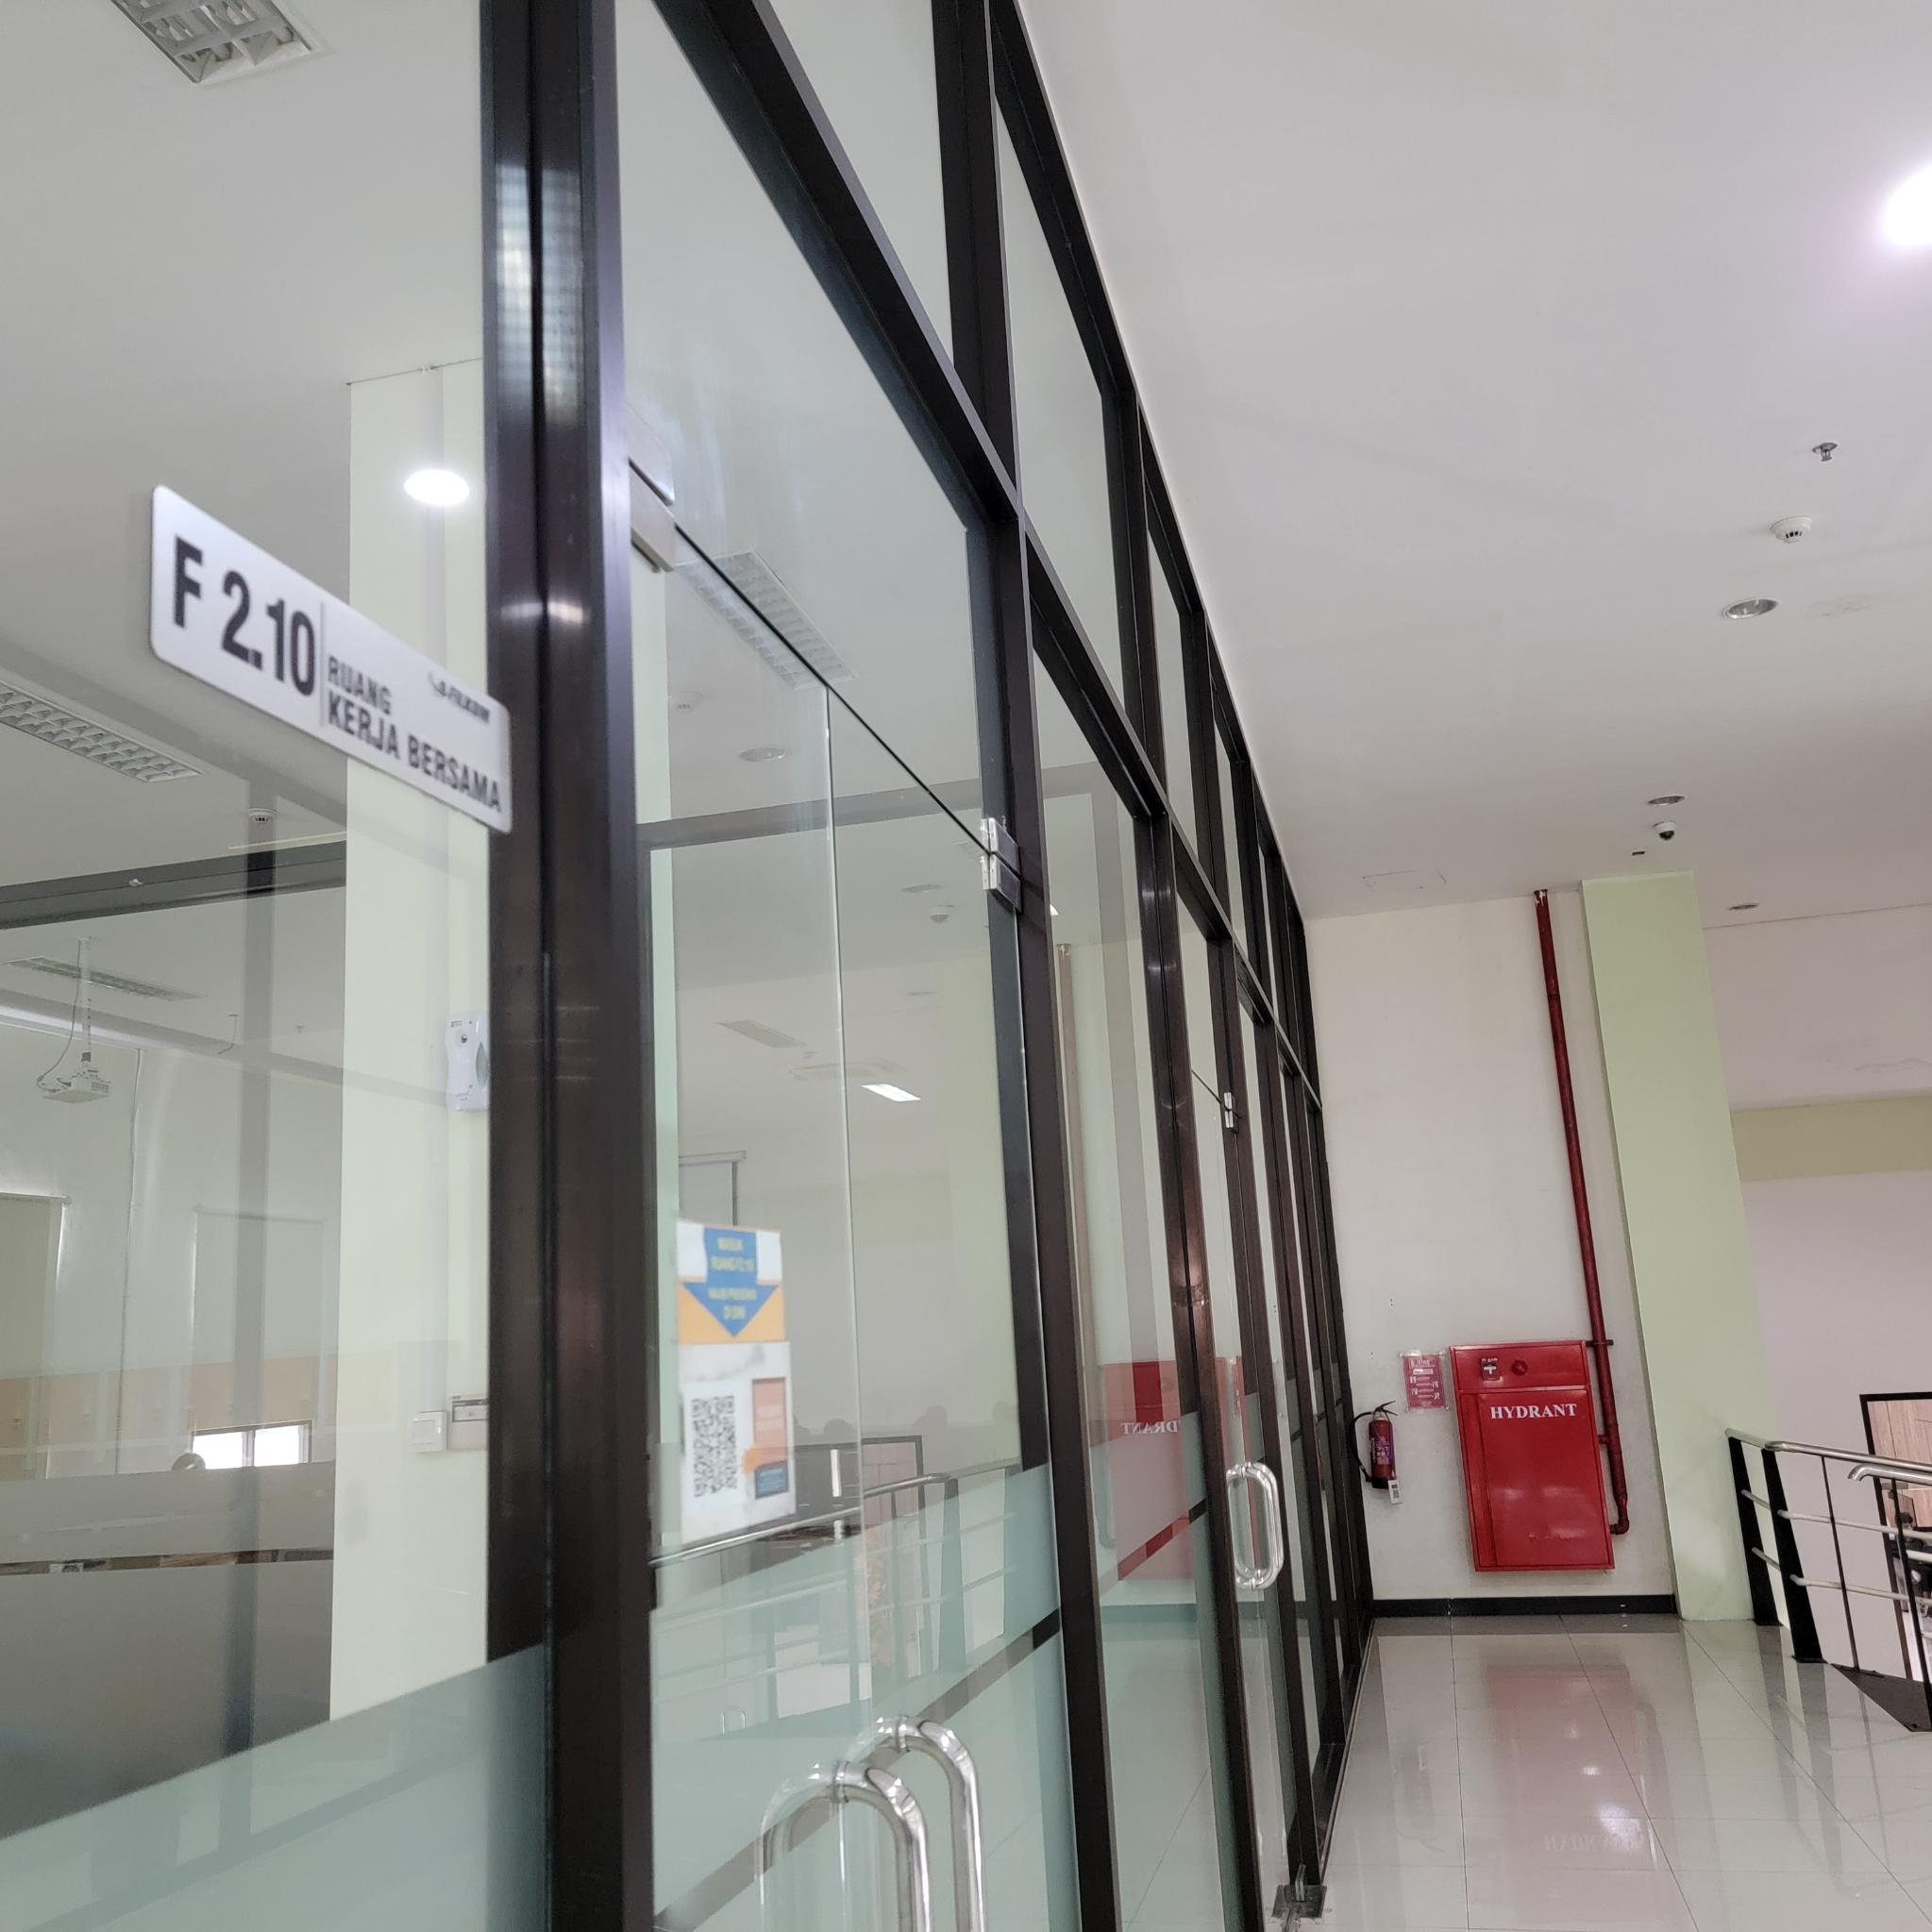plate: (147, 479, 513, 842)
